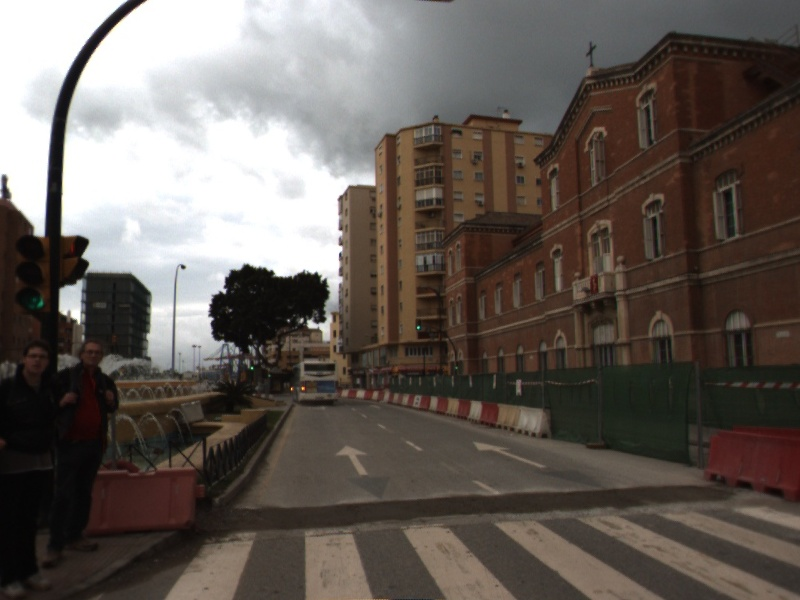STRAIGHT: (471, 440, 549, 469), (334, 443, 371, 477)
